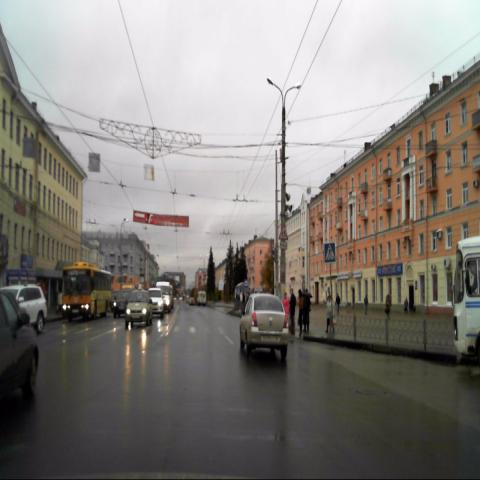1_23: (278, 224, 288, 240)
5_19_1: (324, 242, 335, 262)
